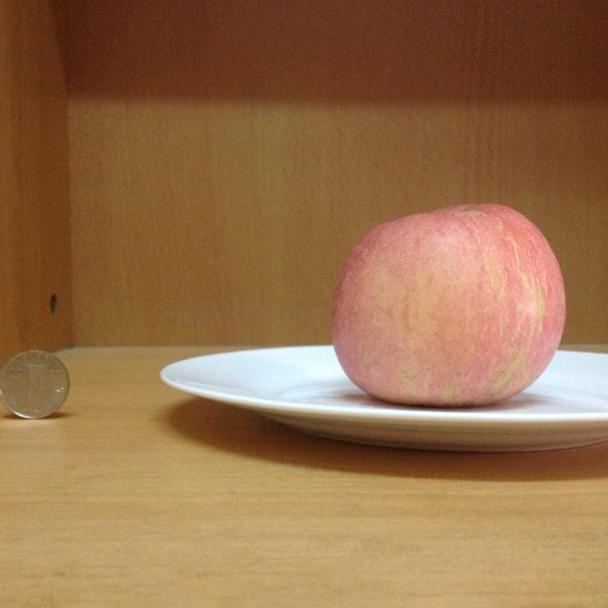apple: (326, 199, 573, 410)
